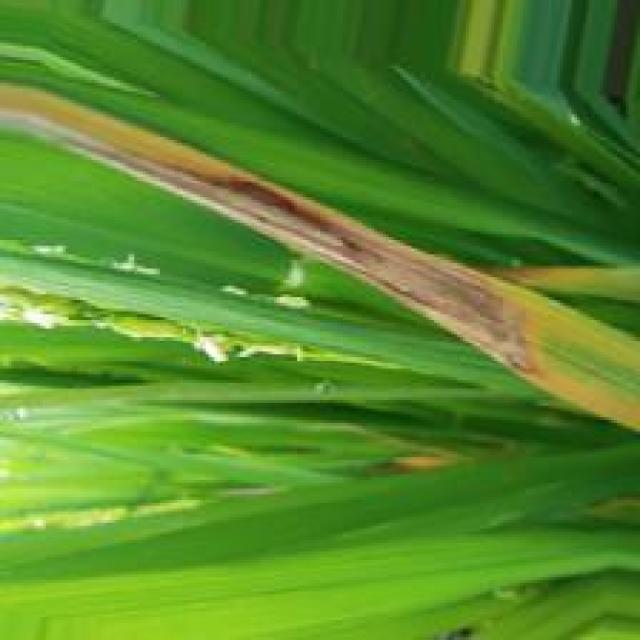Leaf_Scald: (0, 79, 640, 440)
